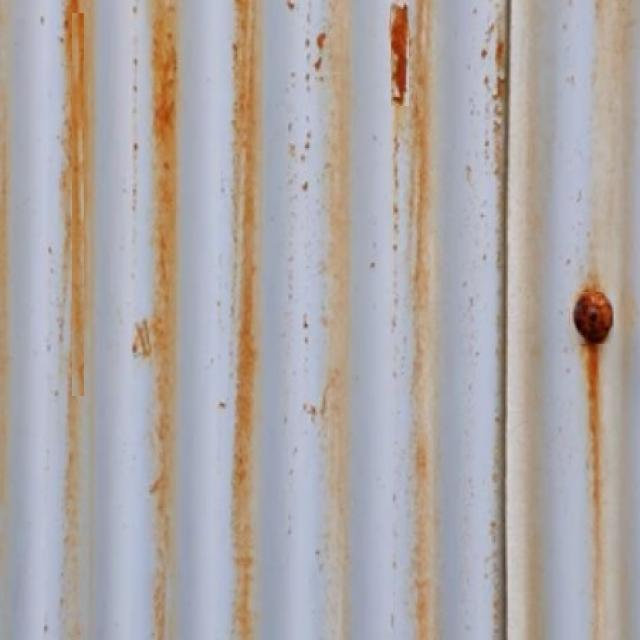Corrosion: (233, 0, 259, 640), (152, 0, 177, 640), (64, 0, 89, 396), (575, 290, 614, 344), (391, 3, 409, 104)
